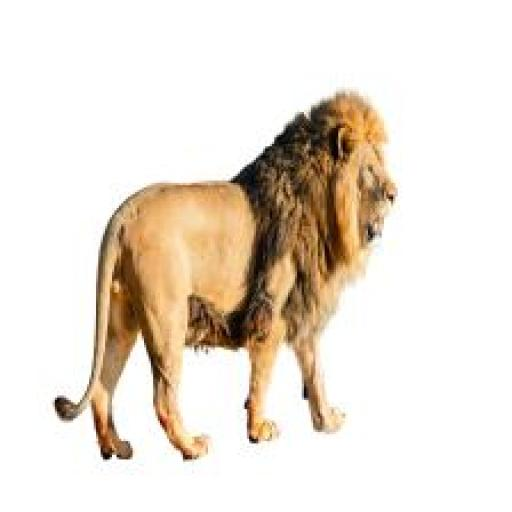lion: (55, 105, 412, 464)
